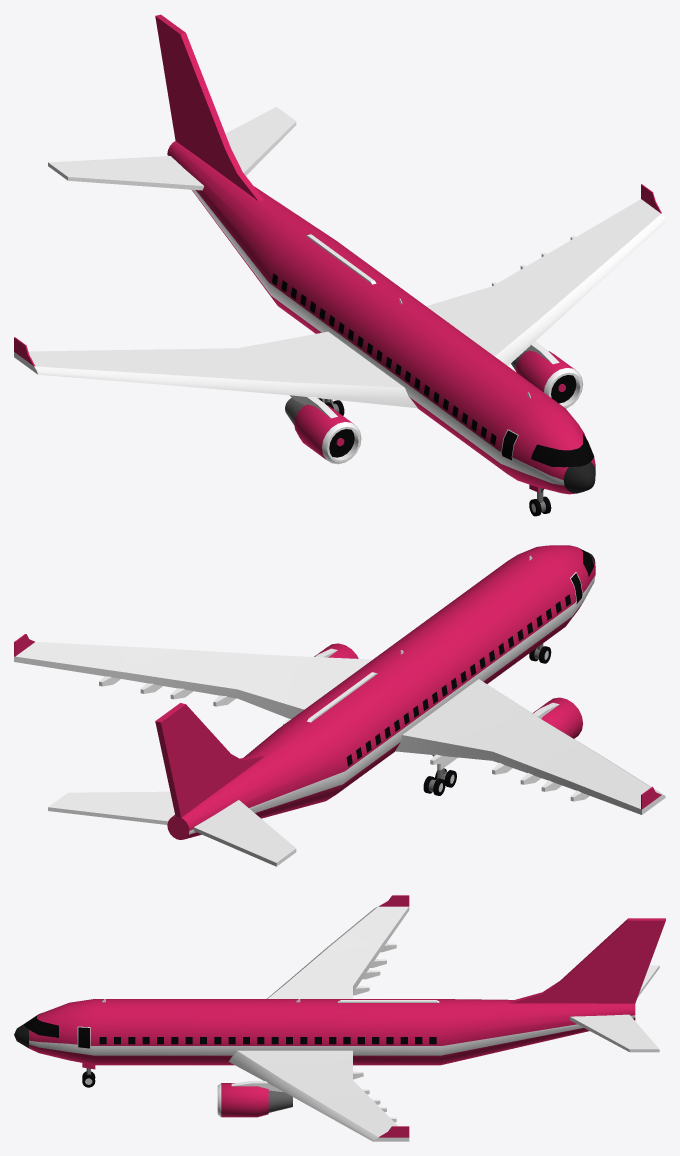
File: Airplane(red).fbx
The picture shows the model from 3 angles, top to bottom: view 1: azimuth 30°, elevation 25°; view 2: azimuth 150°, elevation 25°; view 3: azimuth 270°, elevation 25°; orthographic projection. The views are drawn at different scales.
Visible parts, largest first — view 1: Airplane; view 2: Airplane; view 3: Airplane.
Part boxes in pixels (<box>): Airplane: <box>14,14,665,516</box>; Airplane: <box>14,545,665,866</box>; Airplane: <box>14,895,665,1141</box>.
Size of the model in its own units: 4670 by 1558 by 5560.
1 material, 1 textured.
